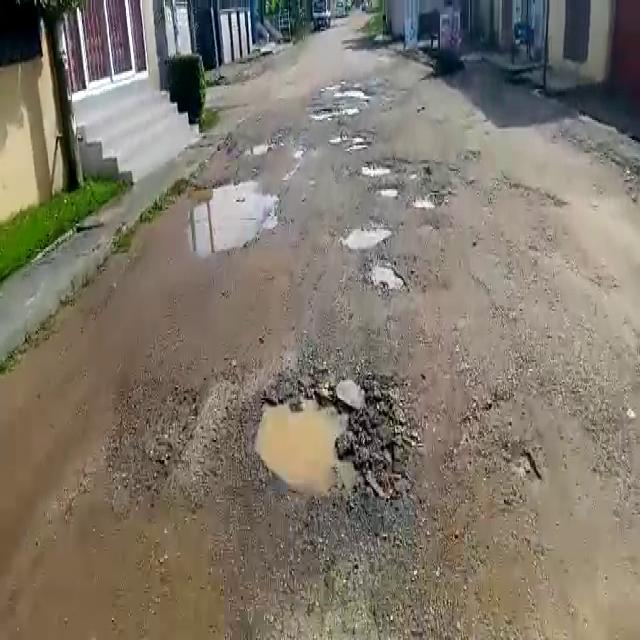Pothole: (239, 374, 412, 510), (193, 179, 283, 250), (338, 219, 393, 251), (364, 258, 409, 291), (411, 188, 445, 212), (327, 133, 372, 151), (358, 159, 400, 175), (244, 141, 276, 157), (377, 184, 405, 198)
